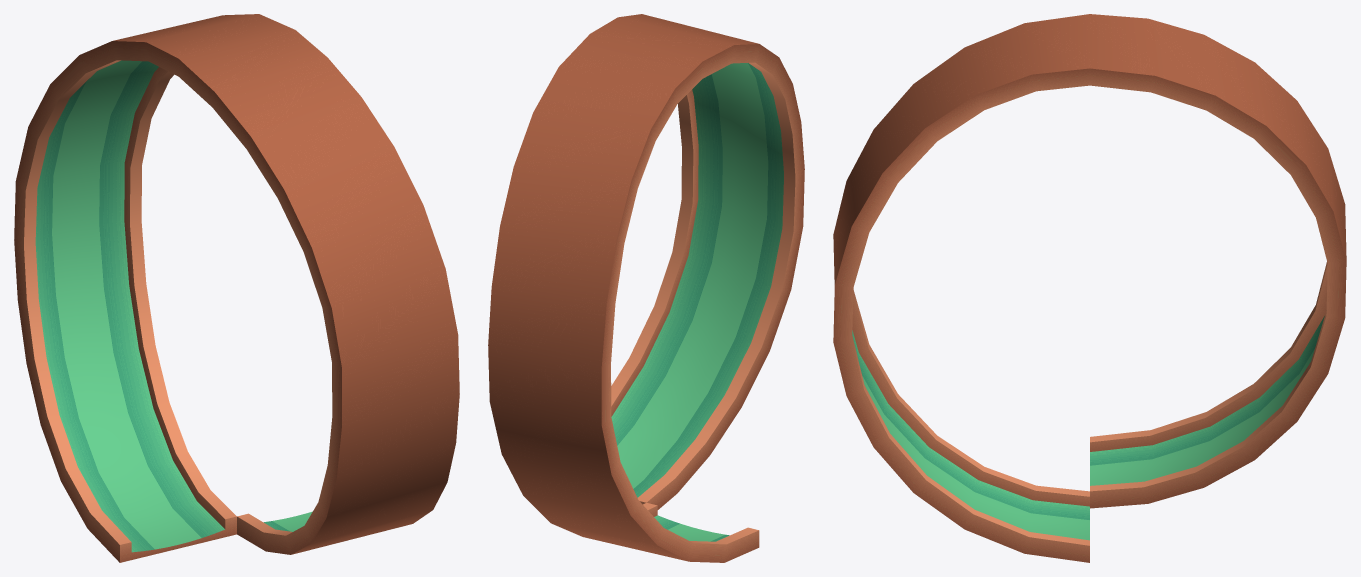
Rendered from spline-concave-looping.glb.
3 views of the same model, side by side, from view 1: azimuth 30°, elevation 25°; view 2: azimuth 150°, elevation 25°; view 3: azimuth 270°, elevation 25° (orthographic). The views are drawn at different scales.
Parts seen in each view (by area): view 1: spline-concave-looping; view 2: spline-concave-looping; view 3: spline-concave-looping.
Part boxes in pixels (left/top/right/bottom): spline-concave-looping: left=14, top=14, right=459, bottom=562; spline-concave-looping: left=488, top=14, right=804, bottom=562; spline-concave-looping: left=833, top=14, right=1346, bottom=562.
Size of the model in its own units: 2 by 4 by 3.98.
Materials: 1 (1 with a texture image).
